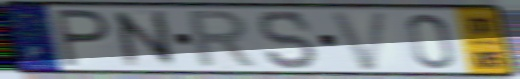0: (404, 11, 458, 71)
N: (108, 8, 182, 70)
P: (52, 7, 114, 70)
R: (186, 8, 263, 71)
S: (256, 8, 321, 72)
V: (326, 9, 394, 72)
